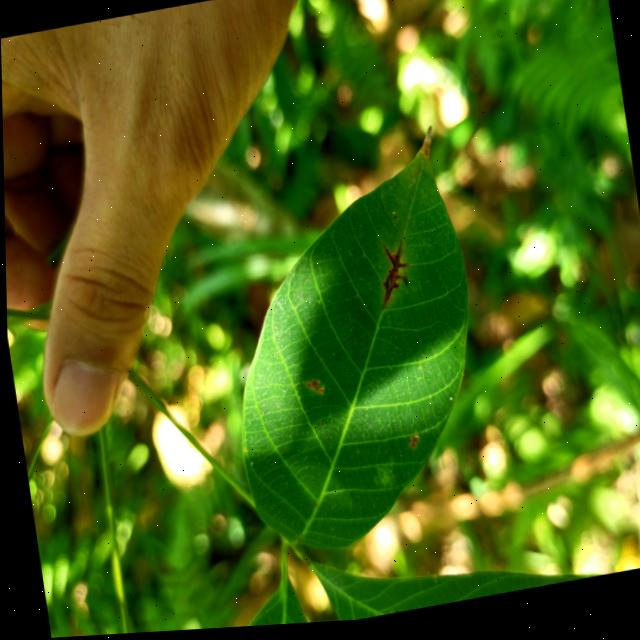Corynespora: (374, 245, 412, 309)
Leaf-Blight: (416, 130, 435, 166)
